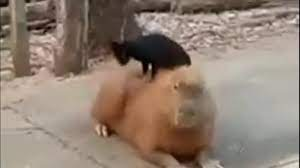capivara: (91, 65, 221, 168)
